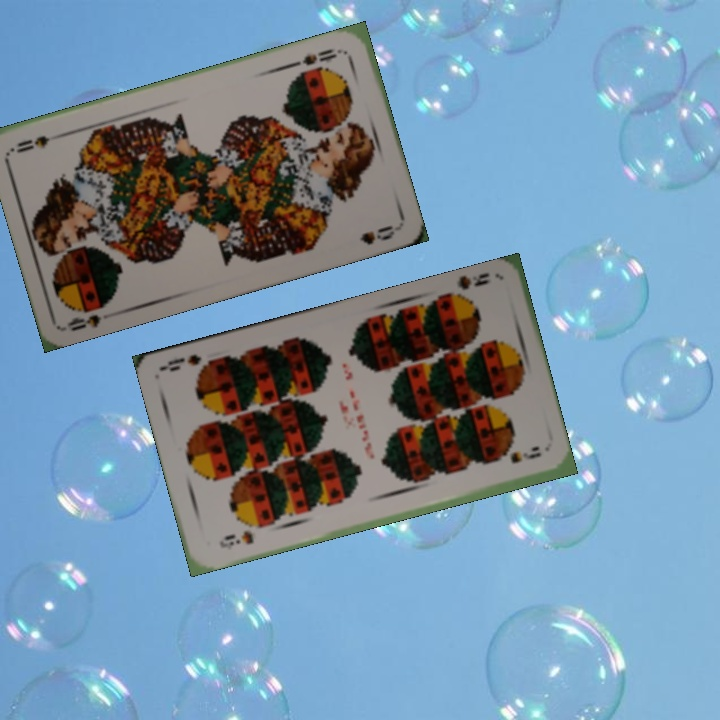S9: (441, 268, 494, 306), (215, 526, 257, 553)
SO: (63, 295, 117, 334), (288, 44, 347, 70)
